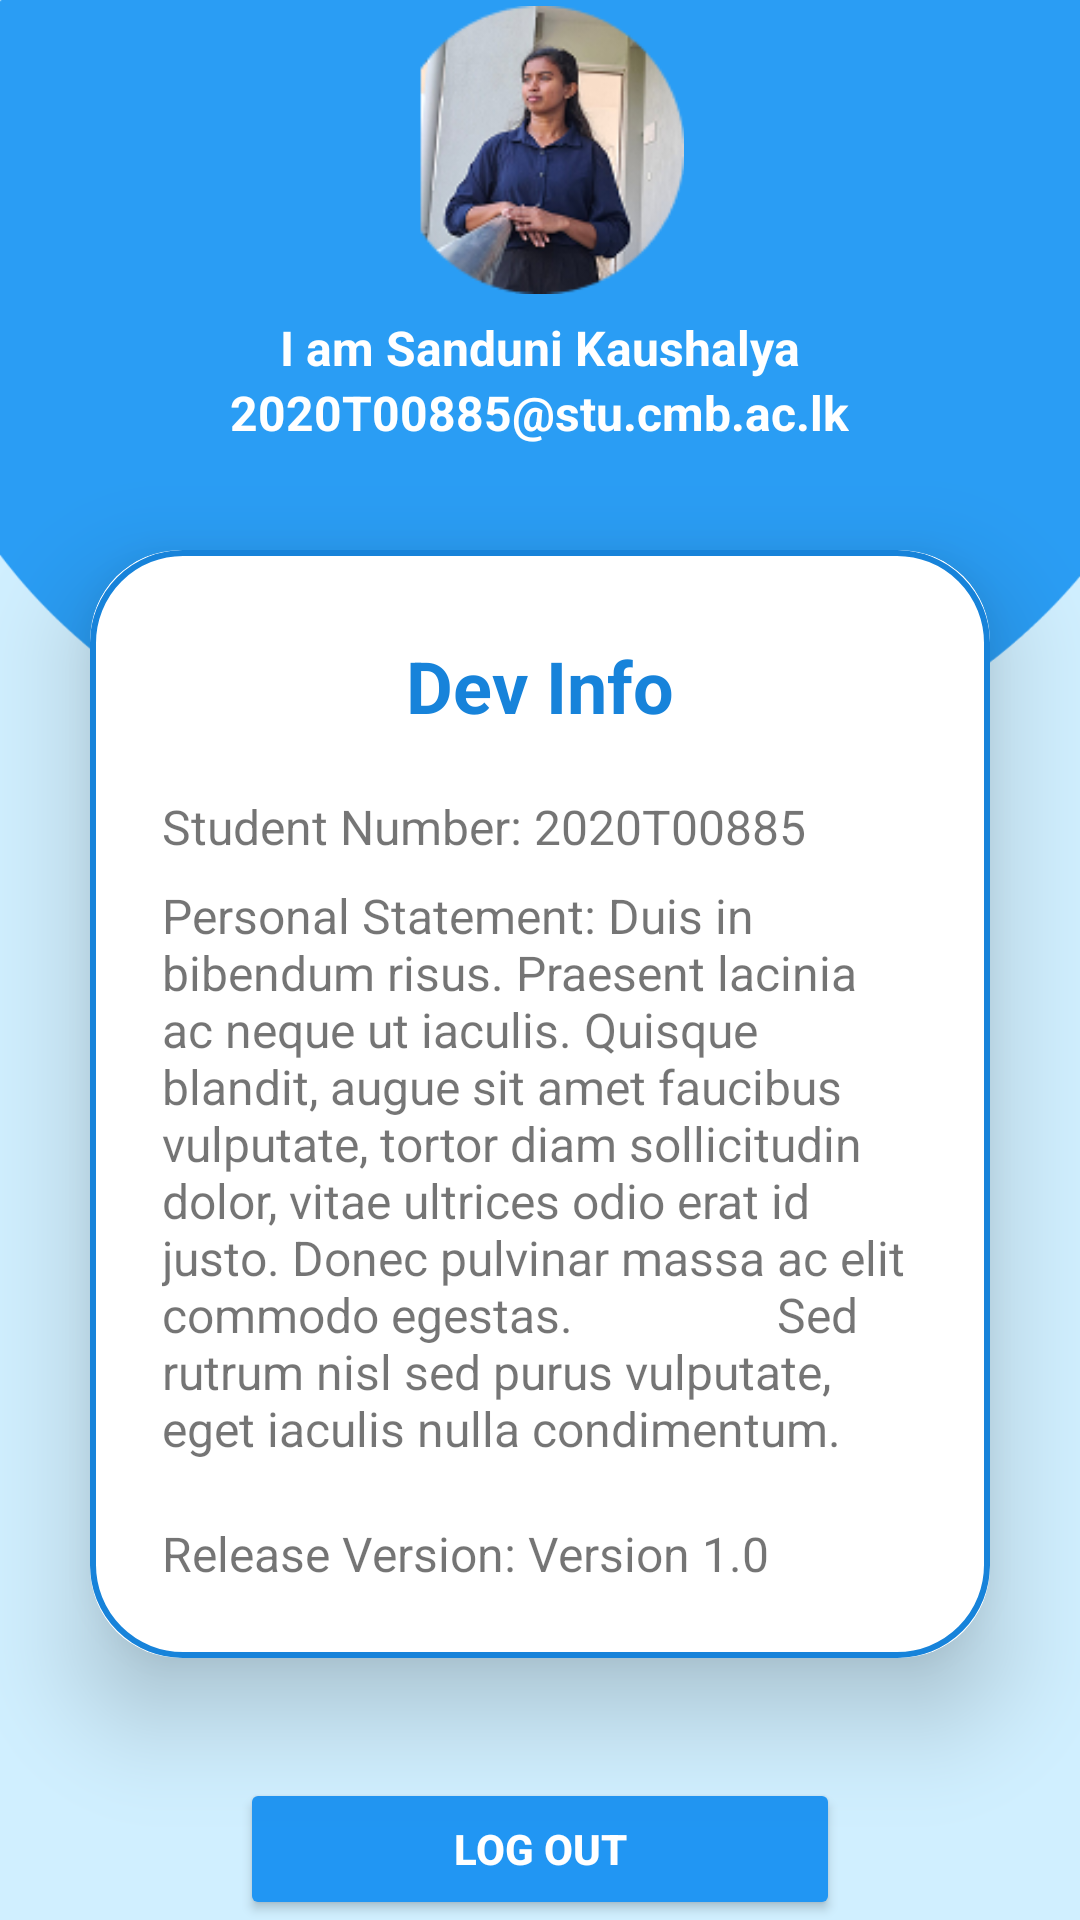

Point at icon controls on the screen. Image size 1080w x 1920h, points as (x,y).
profile pic: (552,150)
